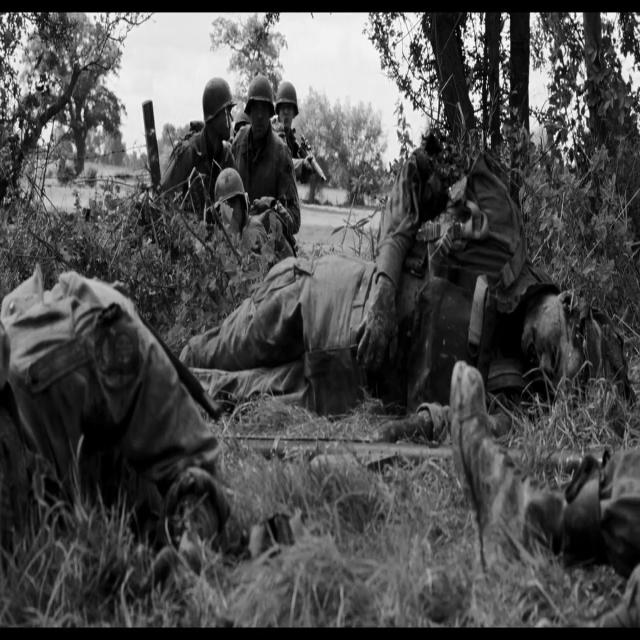Short-Gun: (270, 96, 368, 264)
